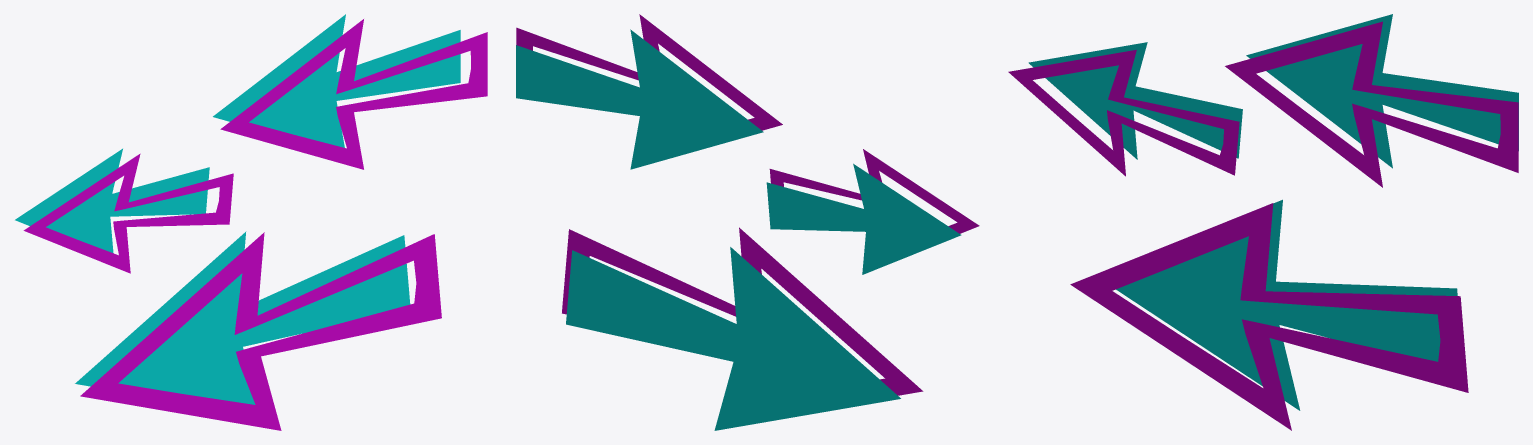
The model's file is mesh_text_back.fbx.
3 views of the same model, side by side, from view 1: azimuth 30°, elevation 25°; view 2: azimuth 150°, elevation 25°; view 3: azimuth 330°, elevation 25° (orthographic). The views are drawn at different scales.
Visible parts, largest first — view 1: mesh_text_back, mesh_text_back1; view 2: mesh_text_back, mesh_text_back1; view 3: mesh_text_back1, mesh_text_back.
Part boxes in pixels (bbox=[...]): mesh_text_back: bbox=[15, 14, 460, 404]; mesh_text_back1: bbox=[23, 19, 487, 430]; mesh_text_back: bbox=[516, 29, 961, 430]; mesh_text_back1: bbox=[516, 14, 979, 395]; mesh_text_back1: bbox=[1008, 21, 1518, 430]; mesh_text_back: bbox=[1028, 14, 1518, 410].
Size of the model in its own units: 0.0323 by 0.0261 by 0.00164.
